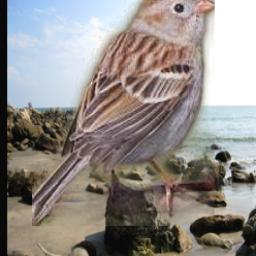Sparrow: (33, 0, 216, 227)
